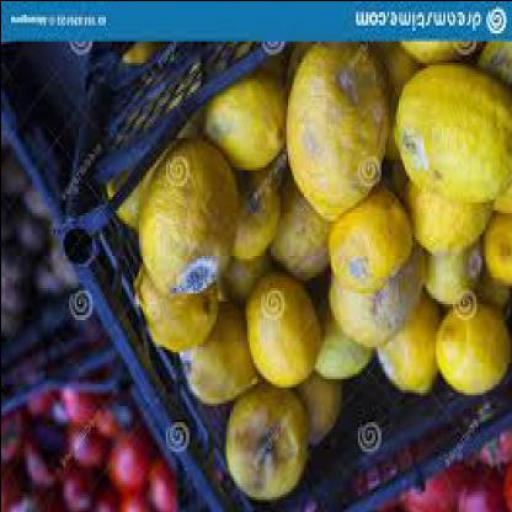biodegradable: (287, 46, 384, 225), (396, 62, 511, 206), (140, 137, 240, 300), (289, 43, 419, 164), (226, 386, 312, 504), (248, 271, 322, 389), (180, 297, 258, 408), (330, 263, 428, 351), (204, 78, 287, 177), (376, 292, 442, 400), (436, 305, 510, 399), (404, 180, 492, 257), (271, 177, 332, 281), (316, 282, 378, 380), (401, 439, 469, 511), (233, 172, 283, 262), (418, 241, 485, 308), (291, 378, 345, 448), (104, 166, 154, 234), (103, 432, 153, 496), (215, 252, 276, 303), (470, 402, 512, 472), (452, 466, 507, 511), (400, 42, 486, 70), (60, 429, 109, 477), (146, 453, 184, 511), (21, 437, 60, 493), (360, 464, 404, 511), (485, 212, 511, 290), (53, 392, 105, 431), (56, 469, 104, 511), (2, 460, 40, 511), (2, 405, 32, 466), (46, 244, 76, 298), (97, 400, 138, 439), (472, 273, 510, 314), (479, 46, 511, 92), (2, 244, 35, 286), (2, 282, 37, 321), (123, 43, 163, 75), (33, 258, 62, 300), (20, 222, 50, 260), (21, 188, 54, 222), (25, 394, 55, 429), (2, 150, 24, 196), (2, 190, 19, 244), (89, 485, 123, 511), (117, 490, 156, 511), (390, 161, 408, 201), (2, 321, 24, 346), (500, 460, 510, 511)
